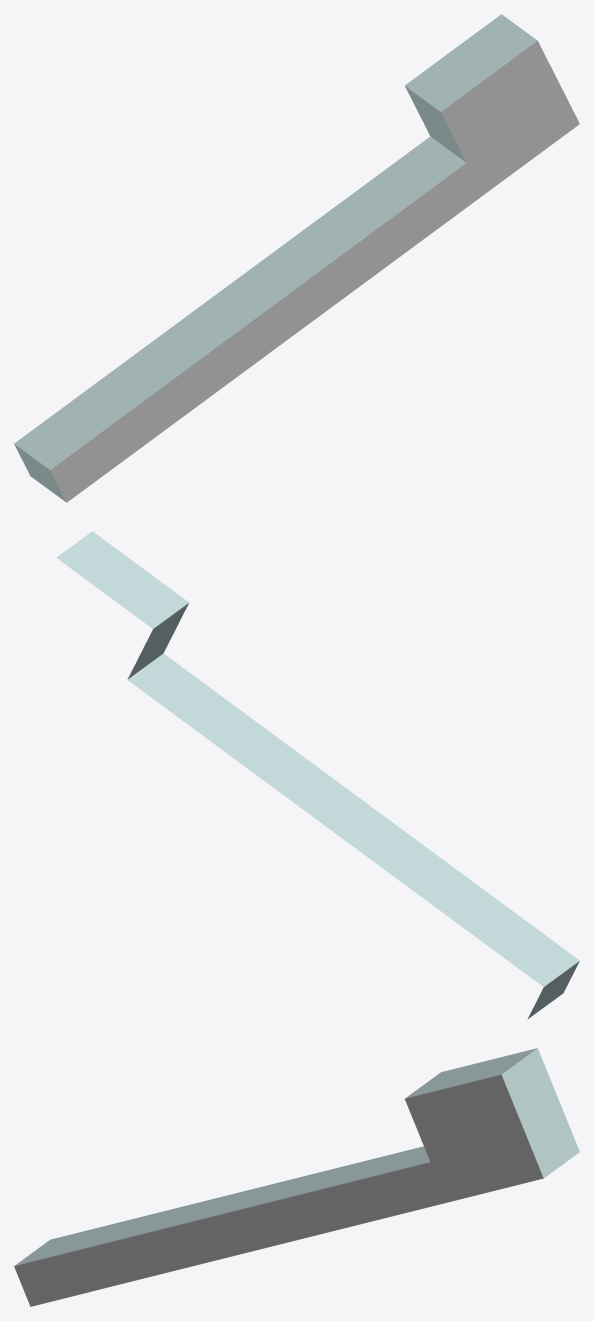
The picture shows the model from 3 angles, top to bottom: view 1: azimuth 30°, elevation 25°; view 2: azimuth 150°, elevation 25°; view 3: azimuth 330°, elevation 25°; orthographic projection.
Visible parts, largest first — view 1: 0_1_1_2_2_0_2_1_1; view 2: 0_1_1_2_2_0_2_1_1; view 3: 0_1_1_2_2_0_2_1_1.
Boxes of the visible parts, bbox=[...] form: 0_1_1_2_2_0_2_1_1: bbox=[14, 14, 579, 502]; 0_1_1_2_2_0_2_1_1: bbox=[56, 531, 579, 1019]; 0_1_1_2_2_0_2_1_1: bbox=[14, 1048, 579, 1306].
Size of the model in its own units: 25.33 by 15.86 by 3.
